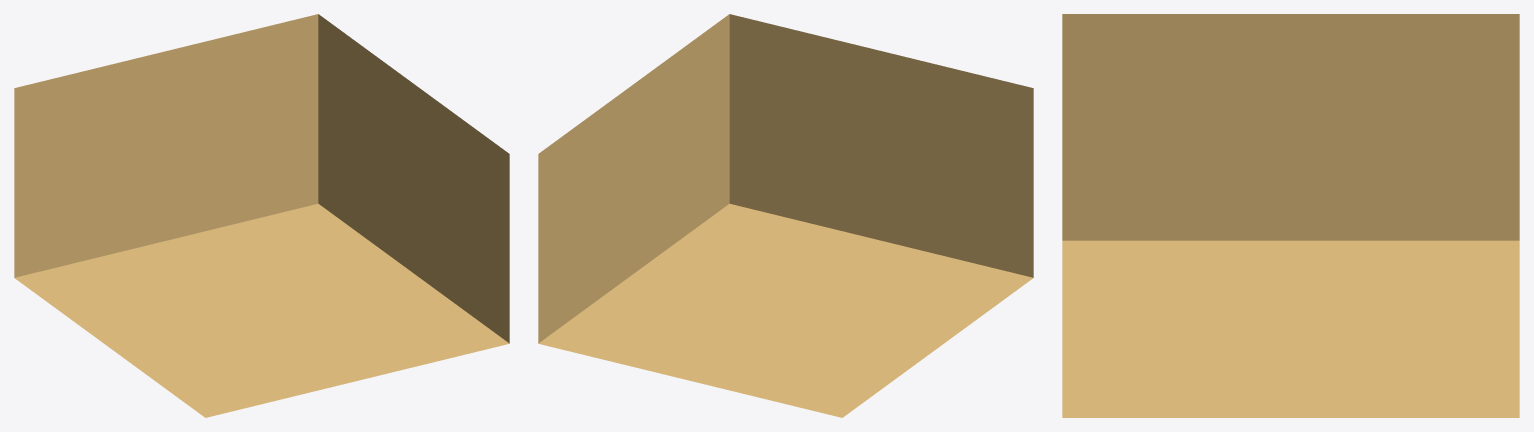
Rendered from lighting-fixtures-navagraha-grid-006.glb.
3 views of the same model, side by side, from view 1: azimuth 30°, elevation 25°; view 2: azimuth 150°, elevation 25°; view 3: azimuth 270°, elevation 25° (orthographic). The views are drawn at different scales.
Parts seen in each view (by area): view 1: Navagraha Grid Lighting Fixtures; view 2: Navagraha Grid Lighting Fixtures; view 3: Navagraha Grid Lighting Fixtures.
Part boxes in pixels (box(x1,y1,x2,y2)): Navagraha Grid Lighting Fixtures: box(14, 14, 509, 417); Navagraha Grid Lighting Fixtures: box(538, 14, 1033, 417); Navagraha Grid Lighting Fixtures: box(1062, 14, 1519, 417).
Size of the model in its own units: 2.35 by 1.4 by 2.56.
